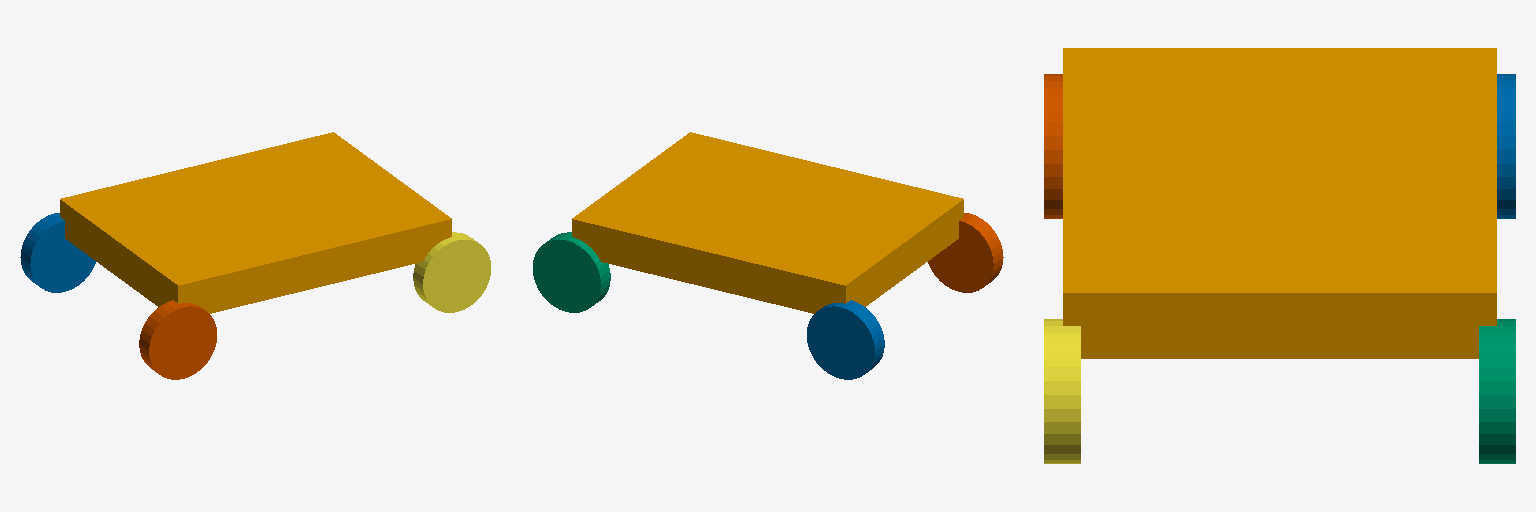
URDF robot description (ground_robot):
<?xml version="1.0" ?>
<!-- =================================================================================== -->
<!-- |    This document was autogenerated by xacro from robots/ground_robot.xacro      | -->
<!-- |    EDITING THIS FILE BY HAND IS NOT RECOMMENDED                                 | -->
<!-- =================================================================================== -->
<robot name="ground_robot">
  <!-- Base link -->
  <link name="base_link">
    <visual>
      <geometry>
        <box size="0.8 0.6 0.1"/>
      </geometry>
      <material name="blue"/>
    </visual>
    <collision>
      <geometry>
        <box size="0.8 0.6 0.1"/>
      </geometry>
    </collision>
    <inertial>
      <mass value="0.5"/>
      <origin rpy="0 0 0" xyz="0.4 0 0"/>
      <inertia ixx="0.1" ixy="0.0" ixz="0.0" iyy="0.1" iyz="0.0" izz="0.1"/>
    </inertial>
  </link>
  <link name="marker">
    <inertial>
      <origin rpy="0.0 0.0 0.0" xyz="0.0 0.0 0.0"/>
      <mass value="0.0001"/>
      <inertia ixx="0.00" ixy="0.0" ixz="0.0" iyy="0.0" iyz="0.0" izz="0.0001"/>
    </inertial>
    <visual name="marker">
      <origin rpy="0.0 -1.570796327 0.0"/>
      <geometry>
        <mesh filename="[local-path]/quadrotor_target_tracking/install/robots_description/share/robots_description/meshes/Marker0.obj" scale="1.0 1.0 1.0"/>
      </geometry>
    </visual>
  </link>
  <joint name="aruco" type="fixed">
    <parent link="base_link"/>
    <child link="marker"/>
    <origin rpy="0 0 0" xyz="0 -0.3 0.060000000000000005"/>
  </joint>
  <link name="wheel_front_left">
    <visual>
      <geometry>
        <cylinder length="0.05" radius="0.1"/>
      </geometry>
      <material name="black"/>
    </visual>
    <collision>
      <geometry>
        <cylinder length="0.05" radius="0.1"/>
      </geometry>
    </collision>
    <inertial>
      <mass value="0.1"/>
      <origin rpy="0 0 0" xyz="0 0 0"/>
      <inertia ixx="0.01" ixy="0.0" ixz="0.0" iyy="0.01" iyz="0.0" izz="0.01"/>
    </inertial>
  </link>
  <joint name="wheel_front_left_joint" type="continuous">
    <parent link="base_link"/>
    <child link="wheel_front_left"/>
    <origin rpy="1.5708 0 0" xyz="0.4 0.3 -0.1"/>
    <axis xyz="0 0 -1"/>
  </joint>
  <link name="wheel_front_right">
    <visual>
      <geometry>
        <cylinder length="0.05" radius="0.1"/>
      </geometry>
      <material name="black"/>
    </visual>
    <collision>
      <geometry>
        <cylinder length="0.05" radius="0.1"/>
      </geometry>
    </collision>
    <inertial>
      <mass value="0.1"/>
      <origin rpy="0 0 0" xyz="0 0 0"/>
      <inertia ixx="0.01" ixy="0.0" ixz="0.0" iyy="0.01" iyz="0.0" izz="0.01"/>
    </inertial>
  </link>
  <joint name="wheel_front_right_joint" type="continuous">
    <parent link="base_link"/>
    <child link="wheel_front_right"/>
    <origin rpy="1.5708 0 0" xyz="0.4 -0.3 -0.1"/>
    <axis xyz="0 0 -1"/>
  </joint>
  <link name="wheel_back_left">
    <visual>
      <geometry>
        <cylinder length="0.05" radius="0.1"/>
      </geometry>
      <material name="black"/>
    </visual>
    <collision>
      <geometry>
        <cylinder length="0.05" radius="0.1"/>
      </geometry>
    </collision>
    <inertial>
      <mass value="0.1"/>
      <origin rpy="0 0 0" xyz="0 0 0"/>
      <inertia ixx="0.01" ixy="0.0" ixz="0.0" iyy="0.01" iyz="0.0" izz="0.01"/>
    </inertial>
  </link>
  <joint name="wheel_back_left_joint" type="continuous">
    <parent link="base_link"/>
    <child link="wheel_back_left"/>
    <origin rpy="1.5708 0 0" xyz="-0.4 0.3 -0.1"/>
    <axis xyz="0 0 -1"/>
  </joint>
  <link name="wheel_back_right">
    <visual>
      <geometry>
        <cylinder length="0.05" radius="0.1"/>
      </geometry>
      <material name="black"/>
    </visual>
    <collision>
      <geometry>
        <cylinder length="0.05" radius="0.1"/>
      </geometry>
    </collision>
    <inertial>
      <mass value="0.1"/>
      <origin rpy="0 0 0" xyz="0 0 0"/>
      <inertia ixx="0.01" ixy="0.0" ixz="0.0" iyy="0.01" iyz="0.0" izz="0.01"/>
    </inertial>
  </link>
  <joint name="wheel_back_right_joint" type="continuous">
    <parent link="base_link"/>
    <child link="wheel_back_right"/>
    <origin rpy="1.5708 0 0" xyz="-0.4 -0.3 -0.1"/>
    <axis xyz="0 0 -1"/>
  </joint>
  <!-- Differential Drive Plugin -->
  <!-- <gazebo>
    <plugin name="diff_drive_controller" filename="libgazebo_ros_diff_drive.so">
      <alwaysOn>true</alwaysOn>
      <updateRate>100.0</updateRate>
      <wheelSeparation>${base_width}</wheelSeparation>
      <wheelDiameter>${wheel_radius * 2}</wheelDiameter>
      <wheelTorque>5.0</wheelTorque>
      <commandTopic>/cmd_vel</commandTopic>
      <odometryTopic>/odom</odometryTopic>
      <odometryFrame>odom</odometryFrame>
      <robotBaseFrame>base_link</robotBaseFrame>
      <publishTf>true</publishTf>
      <leftJoint>wheel_front_left_joint</leftJoint>
      <rightJoint>wheel_front_right_joint</rightJoint>
    </plugin>
  </gazebo> -->
  <gazebo>
    <plugin filename="libgazebo_ros_diff_drive.so" name="wheel_drive_controller">
      <!-- wheels -->
      <num_wheel_pairs>2</num_wheel_pairs>
      <left_joint>wheel_front_left_joint</left_joint>
      <right_joint>wheel_front_right_joint</right_joint>
      <left_joint>wheel_back_left_joint</left_joint>
      <right_joint>wheel_back_right_joint</right_joint>
      <!-- kinematics -->
      <wheel_separation>0.6</wheel_separation>
      <wheel_diameter>0.2</wheel_diameter>
      <!-- Limits -->
      <max_wheel_torque>200.0</max_wheel_torque>
      <max_wheel_acceleration>10.0</max_wheel_acceleration>
      <!-- Output -->
      <odometry_frame>odom</odometry_frame>
      <robot_base_frame>base_link</robot_base_frame>
      <!-- topic & re remappings -->
      <ros>
        <namespace>/ground_robot</namespace>
        <argument>/cmd_vel:=cmd_vel</argument>
        <argument>/odom:=odom</argument>
      </ros>
      <publish_odom>true</publish_odom>
      <publish_odom_tf>true</publish_odom_tf>
      <update_rate>100.0</update_rate>
    </plugin>
  </gazebo>
  <gazebo reference="base_link">
    <material>Gazebo/Green</material>
  </gazebo>
</robot>

--- Facts derived from the render (not from the file) ---
Views: 3 orthographic renders of the robot side by side, from view 1: azimuth 30°, elevation 25°; view 2: azimuth 150°, elevation 25°; view 3: azimuth 270°, elevation 25°.
Model ground_robot with 6 links and 5 joints (4 continuous, 1 fixed), rooted at base_link, posed all joints at 0.
Links seen in each view (by area): view 1: base_link, wheel_back_right, wheel_front_right, wheel_back_left; view 2: base_link, wheel_back_left, wheel_front_left, wheel_back_right; view 3: base_link, wheel_front_left, wheel_front_right, wheel_back_left, wheel_back_right.
Boxes of the visible links, box(x1,y1,x2,y2) form: base_link: box(60, 132, 451, 313); wheel_back_right: box(139, 300, 216, 379); wheel_front_right: box(413, 232, 490, 312); wheel_back_left: box(20, 213, 95, 292); base_link: box(572, 132, 963, 313); wheel_back_left: box(807, 300, 884, 379); wheel_front_left: box(533, 232, 610, 312); wheel_back_right: box(928, 213, 1003, 292); base_link: box(1063, 48, 1496, 358); wheel_front_left: box(1479, 319, 1515, 463); wheel_front_right: box(1044, 319, 1080, 463); wheel_back_left: box(1497, 74, 1515, 218); wheel_back_right: box(1044, 74, 1062, 218).
Bounding box of the posed robot: 1 × 0.65 × 0.25 m (x, y, z).
Geometry: only primitive shapes (box / cylinder / sphere) drawn; not drawn: 1 mesh visual (reference in a form the renderer does not follow).